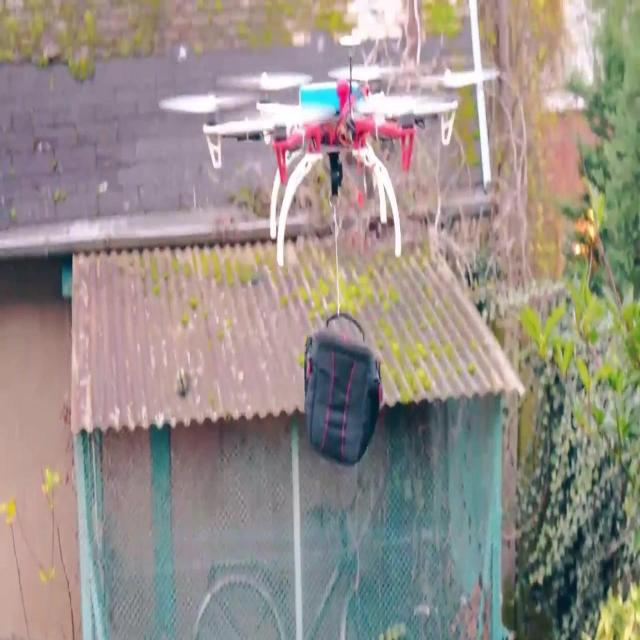UAV: (159, 64, 500, 268)
